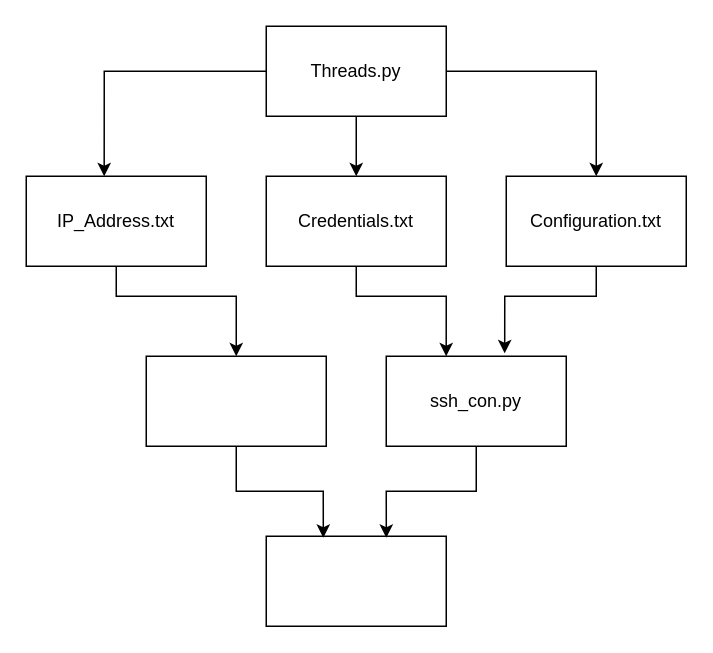
Image size: 713x653. Some labels were removed from this diagram. Here are the shapes that lost their labels. From the top down, the centre of each, then its label:
the point at 235,400: ip_reach.py
the point at 355,580: cpu_util.py
